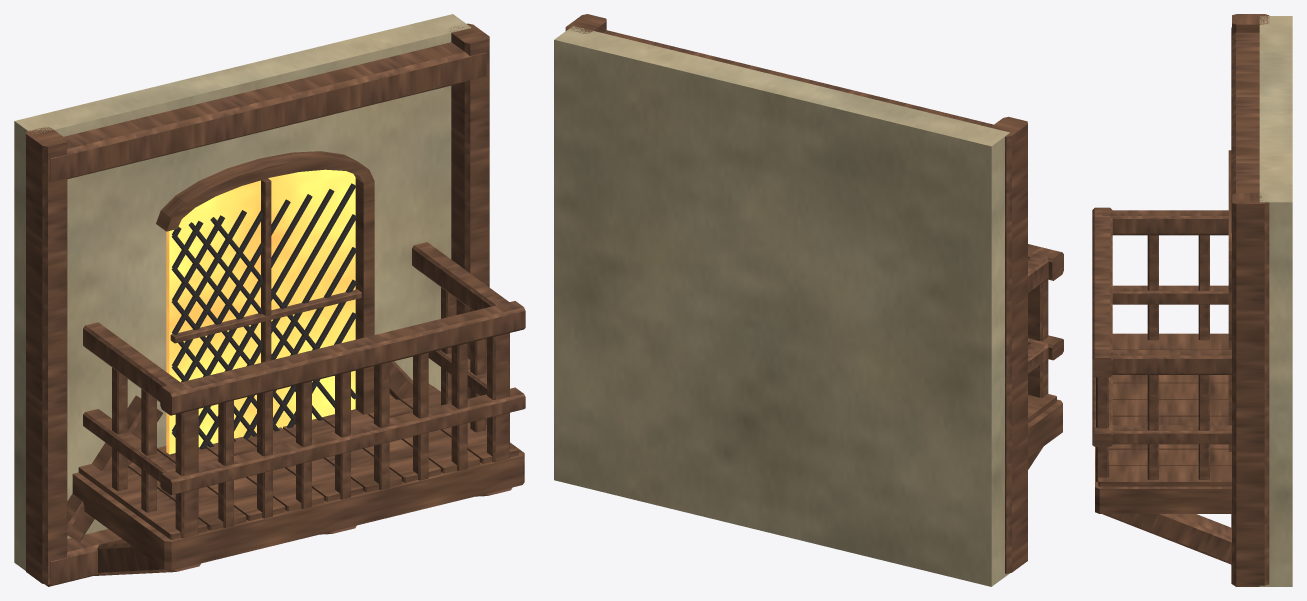
File: wall_balcony.glb
3 views of the same model, side by side, from view 1: azimuth 30°, elevation 25°; view 2: azimuth 150°, elevation 25°; view 3: azimuth 270°, elevation 25° (orthographic). The views are drawn at different scales.
Visible parts, largest first — view 1: Wall Balcony; view 2: Wall Balcony; view 3: Wall Balcony.
Part boxes in pixels (left/top/right/bottom): Wall Balcony: left=14, top=14, right=525, bottom=586; Wall Balcony: left=554, top=14, right=1063, bottom=586; Wall Balcony: left=1092, top=14, right=1292, bottom=586.
Bounding box in the file's own units: 3.26 × 3.14 × 1.45.
Materials: 5 (4 with a texture image).
